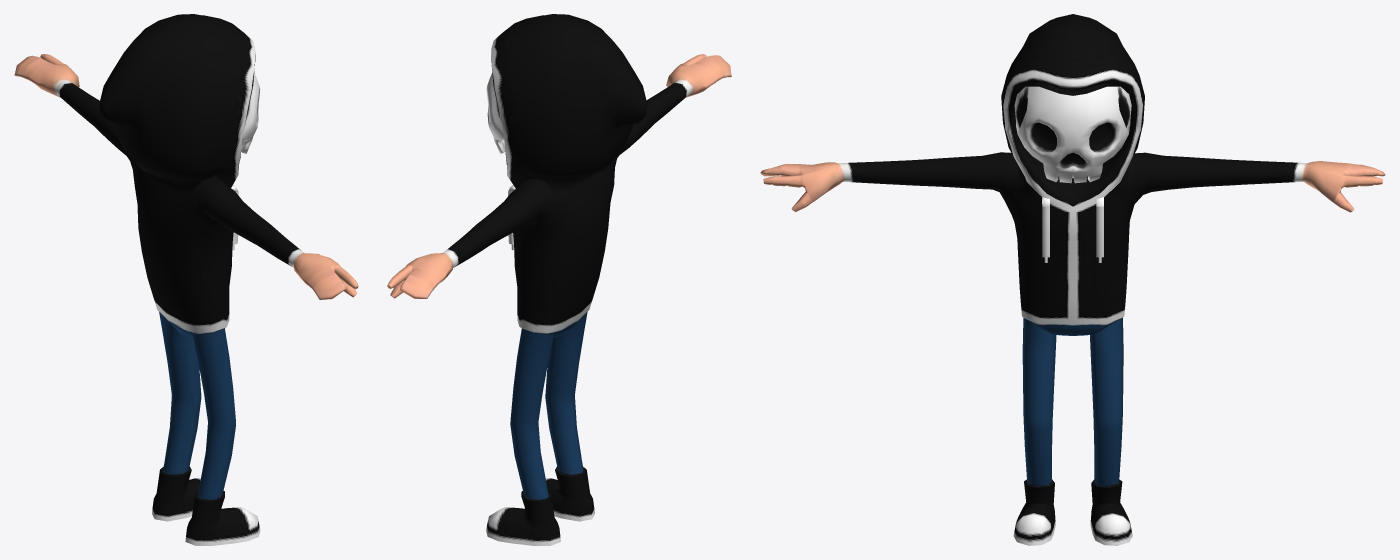
The model's file is esqueletinho.glb.
3 views of the same model, side by side, from view 1: azimuth 30°, elevation 25°; view 2: azimuth 150°, elevation 25°; view 3: azimuth 270°, elevation 25° (orthographic).
Visible parts, largest first — view 1: Body_1; view 2: Body_1; view 3: Body_1.
Boxes of the visible parts, x1,y1,x2,y2 form: Body_1: (14,14,358,545); Body_1: (387,14,731,545); Body_1: (760,14,1385,545).
Size of the model in its own units: 1.4 by 4.39 by 5.
1 material, 1 textured.
